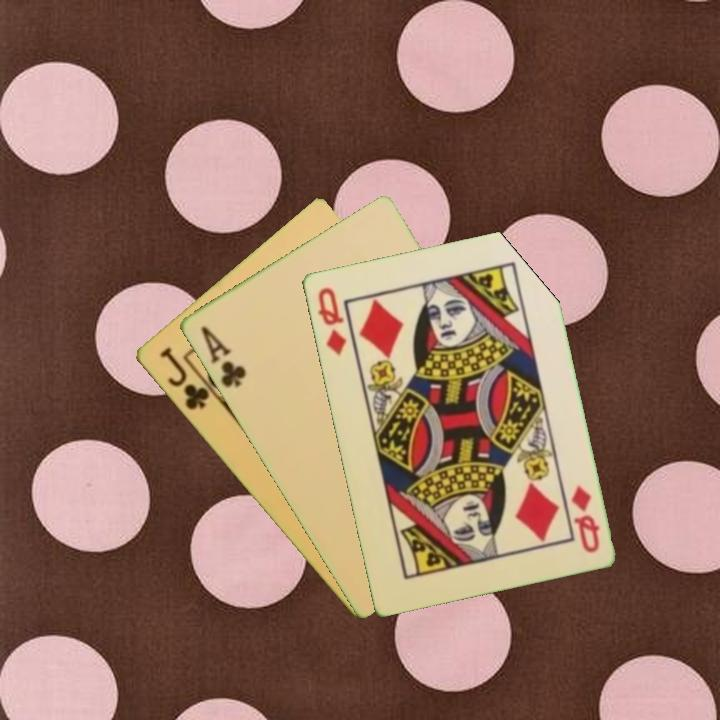Ac: (197, 322, 249, 391)
Jc: (155, 343, 212, 413)
Qd: (313, 283, 349, 359), (567, 481, 602, 556)
